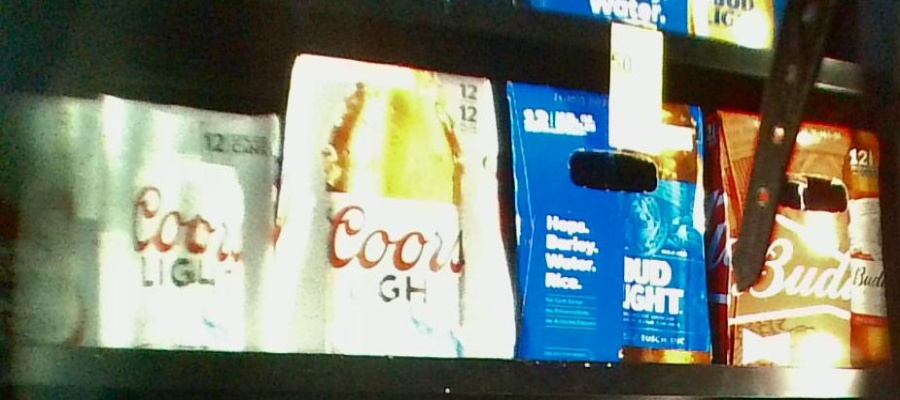bottle: (284, 51, 514, 359), (507, 81, 708, 367), (715, 110, 893, 372), (108, 93, 278, 352), (1, 97, 104, 349)
